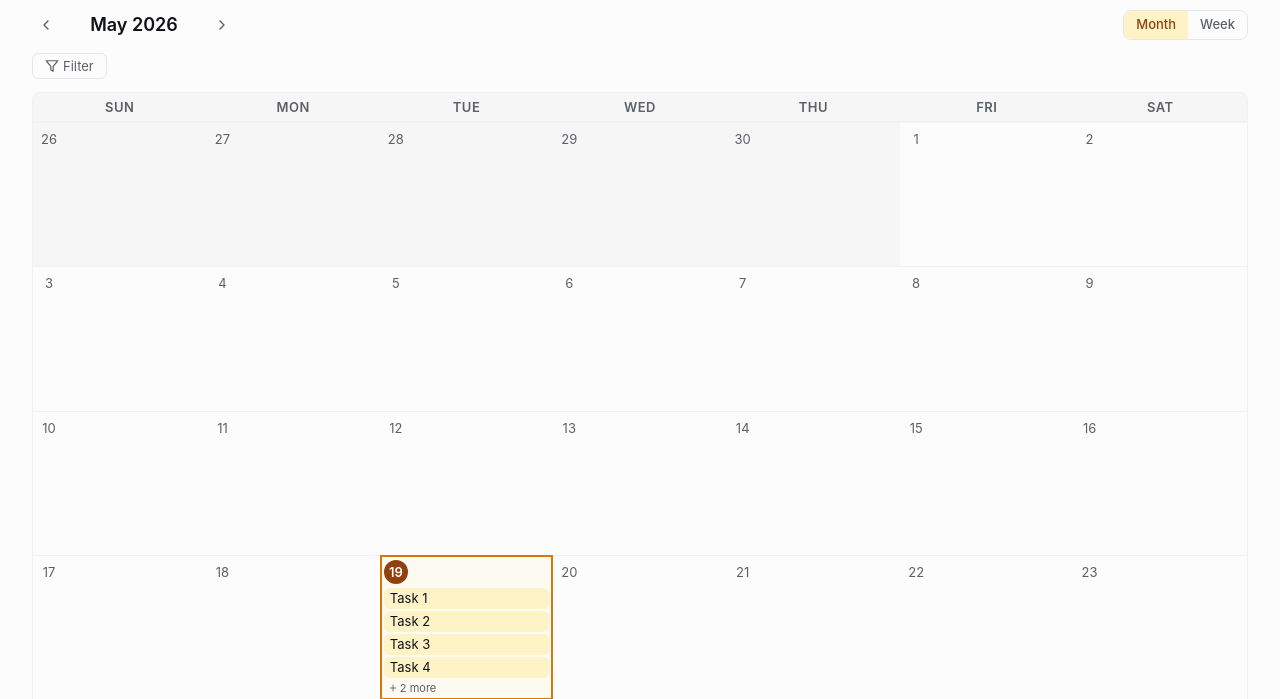
Test case: DayDetailPopover via CalendarMonthView › clicking "+N more" opens the day-detail popover (dialog element)
(page scrolled)
Click the button "2 more" at point(466, 688), box [384, 680, 549, 696]
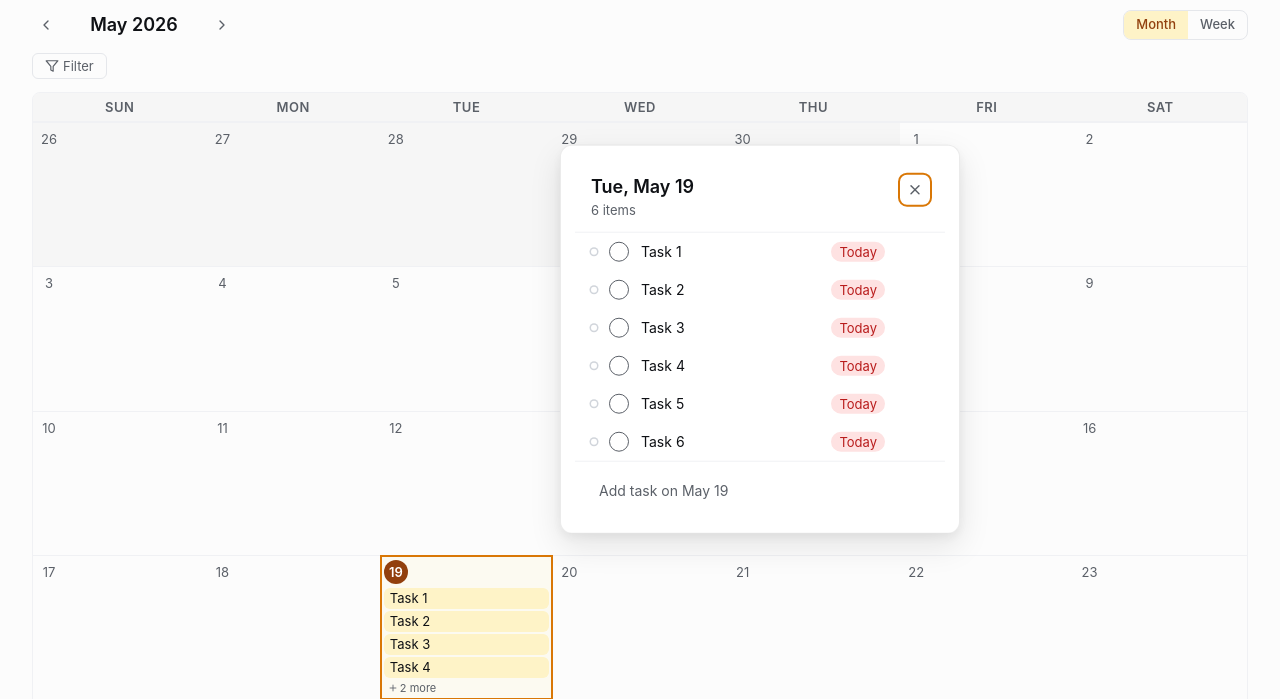
Expected: the dialog is shown, [560, 145, 960, 533]
